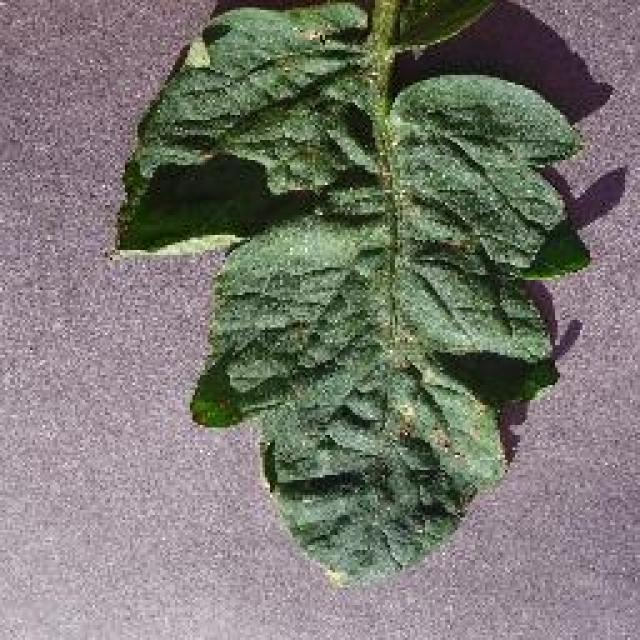Tomato___Target_Spot: (110, 0, 588, 585)
